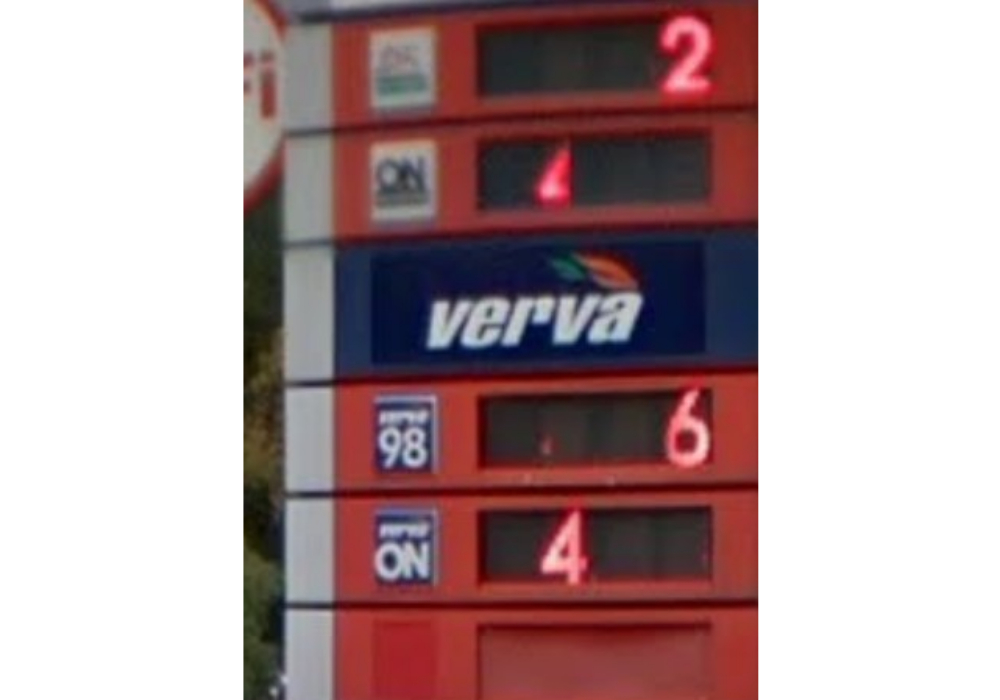ON: (368, 138, 436, 220), (373, 506, 439, 586)
PB98: (370, 393, 440, 477)
